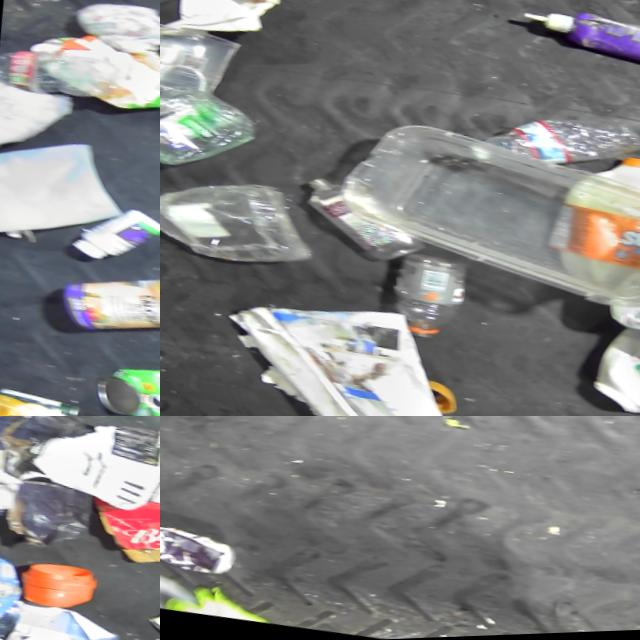can: (512, 1, 640, 87), (82, 355, 160, 416), (160, 518, 229, 579)
milk_jug: (0, 123, 145, 258), (577, 353, 640, 416), (160, 551, 204, 619)
non_white_jug: (533, 142, 640, 323)
plastic_bottle: (472, 99, 640, 183), (288, 172, 428, 272), (374, 249, 469, 348), (0, 590, 123, 640)
